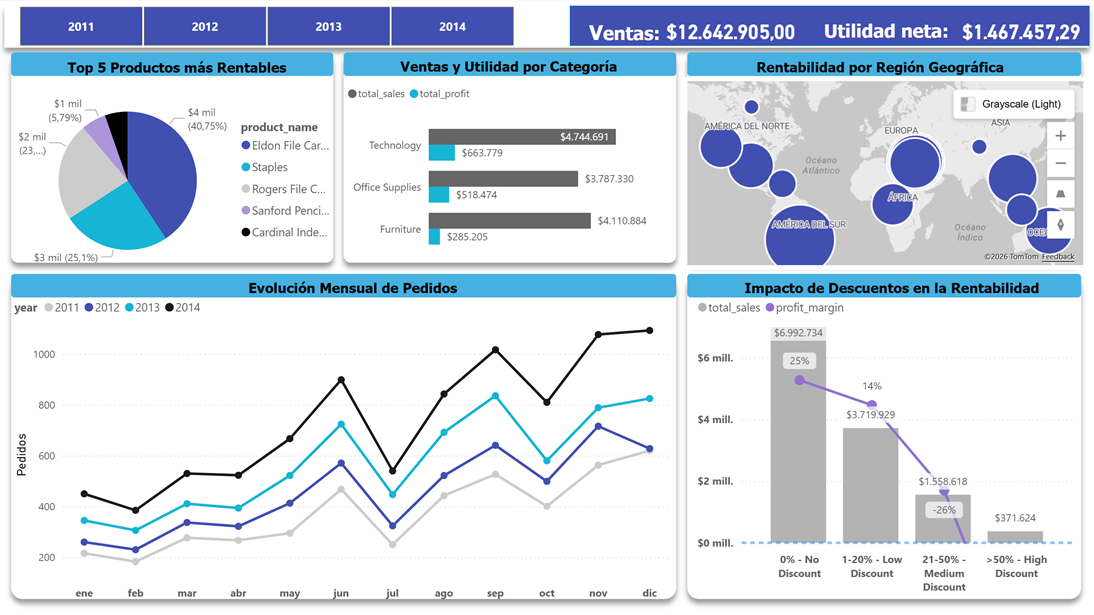

Layout of this report page (visuals, bound fields, positions):
{"tool":"powerbi","page":{"name":"Desempeño Global","canvas":[1280,720],"ordinal":0},"visuals":[{"type":"shape","box":[666.9,5.5,606.5,46.7],"z":0},{"type":"azureMap","title":"Total profit por region","fields":{"Category":["Global_Superstore_Clean.region"],"Size":["Global_Superstore_Clean.total_profit"]},"box":[798.6,89.2,472,225],"z":1000},{"type":"lineClusteredColumnComboChart","title":"Impacto de Descuentos en la Rentabilidad","fields":{"Category":["Global_Superstore_Clean.discount_range"],"Y":["Global_Superstore_Clean.total_sales"],"Y2":["Global_Superstore_Clean.profit_margin"]},"box":[811,337.6,450.1,362.3],"z":2000},{"type":"lineChart","title":"Evolución Mensual de Pedidos","fields":{"Category":["Global_Superstore_Clean.Month Name"],"Y":["Global_Superstore_Clean.total_orders"],"Series":["Global_Superstore_Clean.year"]},"box":[13.7,337.6,775.3,371.9],"z":3000},{"type":"clusteredBarChart","title":"Ventas y Utilidad por Categoría","fields":{"Category":["Global_Superstore_Clean.category"],"Y":["Global_Superstore_Clean.total_sales","Global_Superstore_Clean.total_profit"]},"box":[402.1,89.2,387,222.3],"z":4000},{"type":"slicer","fields":{"Values":["Global_Superstore_Clean.year"]},"box":[0,0,625.7,59],"z":5000},{"type":"card","fields":{"Values":["Global_Superstore_Clean.total_sales"]},"box":[739.6,16.5,230.5,38.4],"z":6000},{"type":"textbox","box":[684.7,16.5,141.3,42.5],"z":7000},{"type":"card","fields":{"Values":["Global_Superstore_Clean.total_profit"]},"box":[1108.8,16.5,171.5,38.4],"z":8000},{"type":"pieChart","title":"Top 5 Productos más Rentables","fields":{"Category":["Global_Superstore_Clean.product_name"],"Y":["Global_Superstore_Clean.total_profit"]},"box":[13.7,59,388.3,300.5],"z":9000},{"type":"textbox","box":[959.2,16.5,164.7,35.7],"z":10000}]}

Visuals, with their boxes in screenshot pixels (x1, y1, x2, y2), scaled from the page's 1280x720 canvas onto the 1094x615 screenshot:
shape: 570/5/1088/45
"Total profit por region" azureMap: 683/76/1086/268
"Impacto de Descuentos en la Rentabilidad" lineClusteredColumnComboChart: 693/288/1078/598
"Evolución Mensual de Pedidos" lineChart: 12/288/674/606
"Ventas y Utilidad por Categoría" clusteredBarChart: 344/76/674/266
slicer - Global_Superstore_Clean.year: 0/0/535/50
card - Global_Superstore_Clean.total_sales: 632/14/829/47
textbox: 585/14/706/50
card - Global_Superstore_Clean.total_profit: 948/14/1093/47
"Top 5 Productos más Rentables" pieChart: 12/50/344/307
textbox: 820/14/961/45
